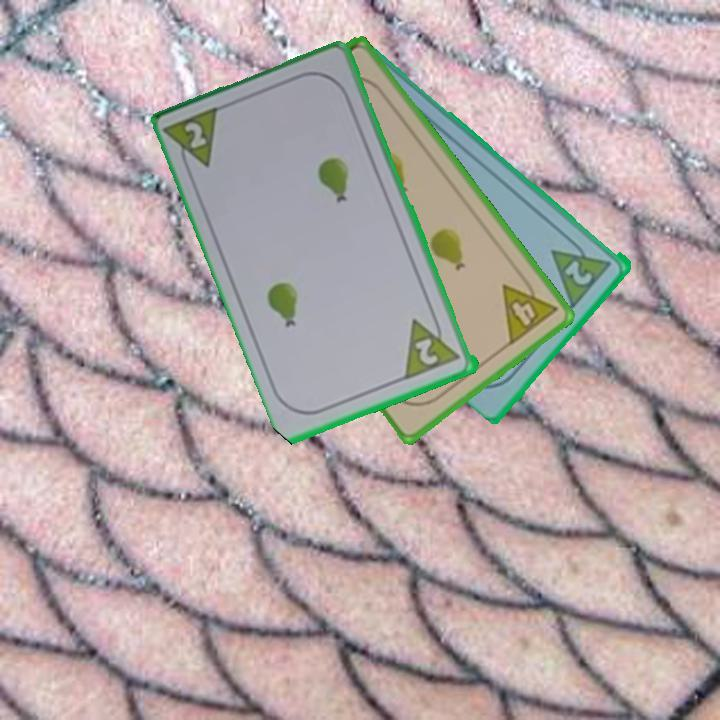2p: (547, 231, 615, 309), (412, 335, 442, 369), (181, 118, 211, 152)
4p: (498, 268, 561, 348)
